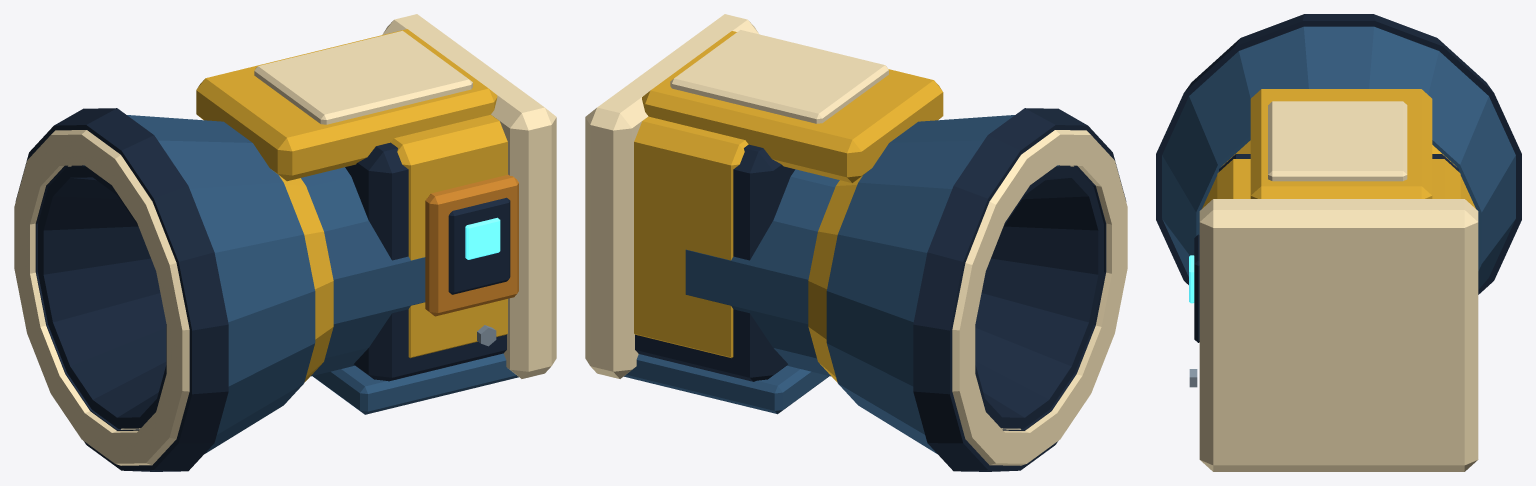
Rendered from thruster.glb.
3 renders of one model, left to right at view 1: azimuth 30°, elevation 25°; view 2: azimuth 150°, elevation 25°; view 3: azimuth 270°, elevation 25°, orthographic.
Parts seen in each view (by area): view 1: thruster__InkNavy, thruster__Cream, thruster__Cobalt, thruster__CourierYellow, thruster__Ochre, thruster__CyanGlow; view 2: thruster__InkNavy, thruster__Cream, thruster__Cobalt, thruster__CourierYellow; view 3: thruster__Cream, thruster__Cobalt, thruster__CourierYellow, thruster__InkNavy.
Boxes of the visible parts, x1=… form: thruster__InkNavy: x1=15, y1=108, x2=510, y2=471; thruster__Cream: x1=14, y1=14, x2=556, y2=465; thruster__Cobalt: x1=82, y1=115, x2=518, y2=453; thruster__CourierYellow: x1=196, y1=29, x2=507, y2=382; thruster__Ochre: x1=425, y1=174, x2=518, y2=316; thruster__CyanGlow: x1=465, y1=217, x2=500, y2=259; thruster__InkNavy: x1=635, y1=108, x2=1126, y2=471; thruster__Cream: x1=585, y1=14, x2=1127, y2=465; thruster__Cobalt: x1=624, y1=115, x2=1059, y2=453; thruster__CourierYellow: x1=634, y1=31, x2=943, y2=382; thruster__Cream: x1=1199, y1=101, x2=1478, y2=471; thruster__Cobalt: x1=1162, y1=26, x2=1515, y2=289; thruster__CourierYellow: x1=1202, y1=89, x2=1475, y2=208; thruster__InkNavy: x1=1156, y1=14, x2=1521, y2=342.
Size of the model in its own units: 1.06 by 0.867 by 0.867.
